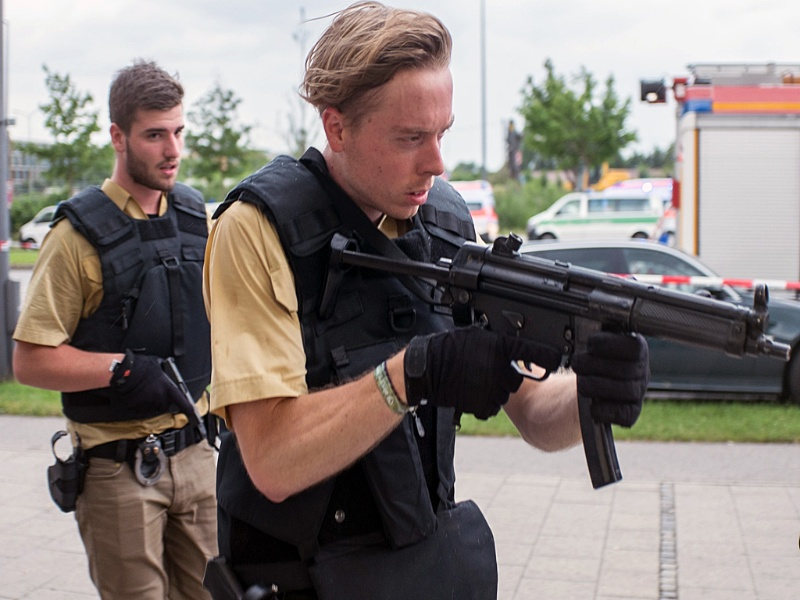car: (518, 241, 800, 399), (525, 189, 662, 242), (19, 205, 58, 244)
person: (206, 2, 650, 600), (11, 65, 214, 600)
weapon: (317, 233, 792, 489), (159, 358, 204, 436)
